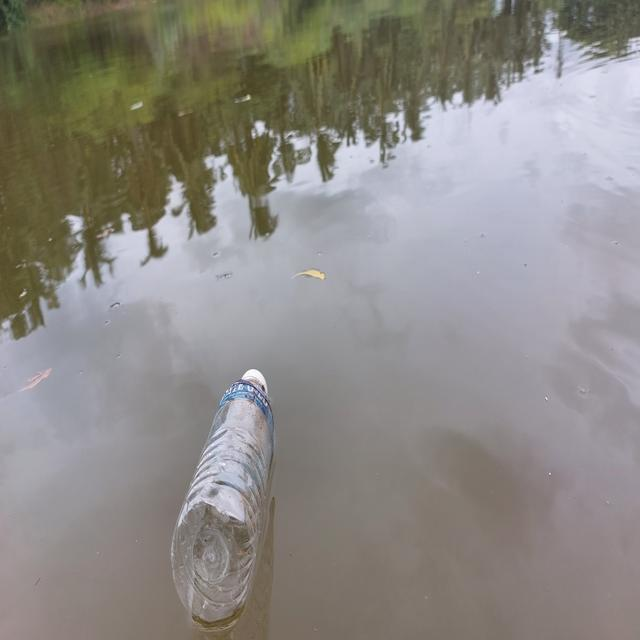waterbottle: (163, 356, 294, 632)
